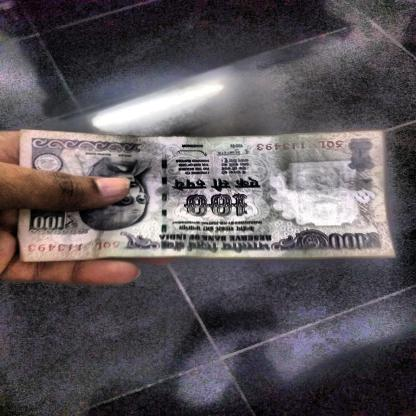Rs100: (178, 192, 254, 220), (24, 212, 84, 234), (326, 229, 386, 251)
